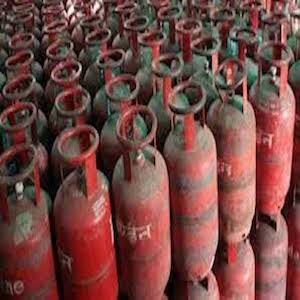combustible: (120, 106, 168, 299), (172, 84, 218, 280), (59, 128, 112, 288), (219, 62, 256, 237), (257, 51, 294, 205)
